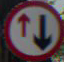Two way: (12, 8, 58, 52)
